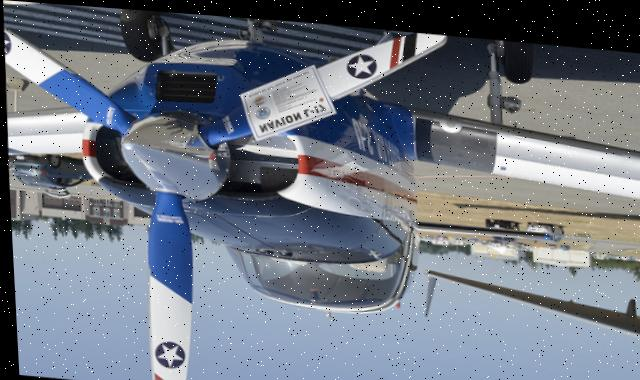car: (6, 149, 90, 203)
